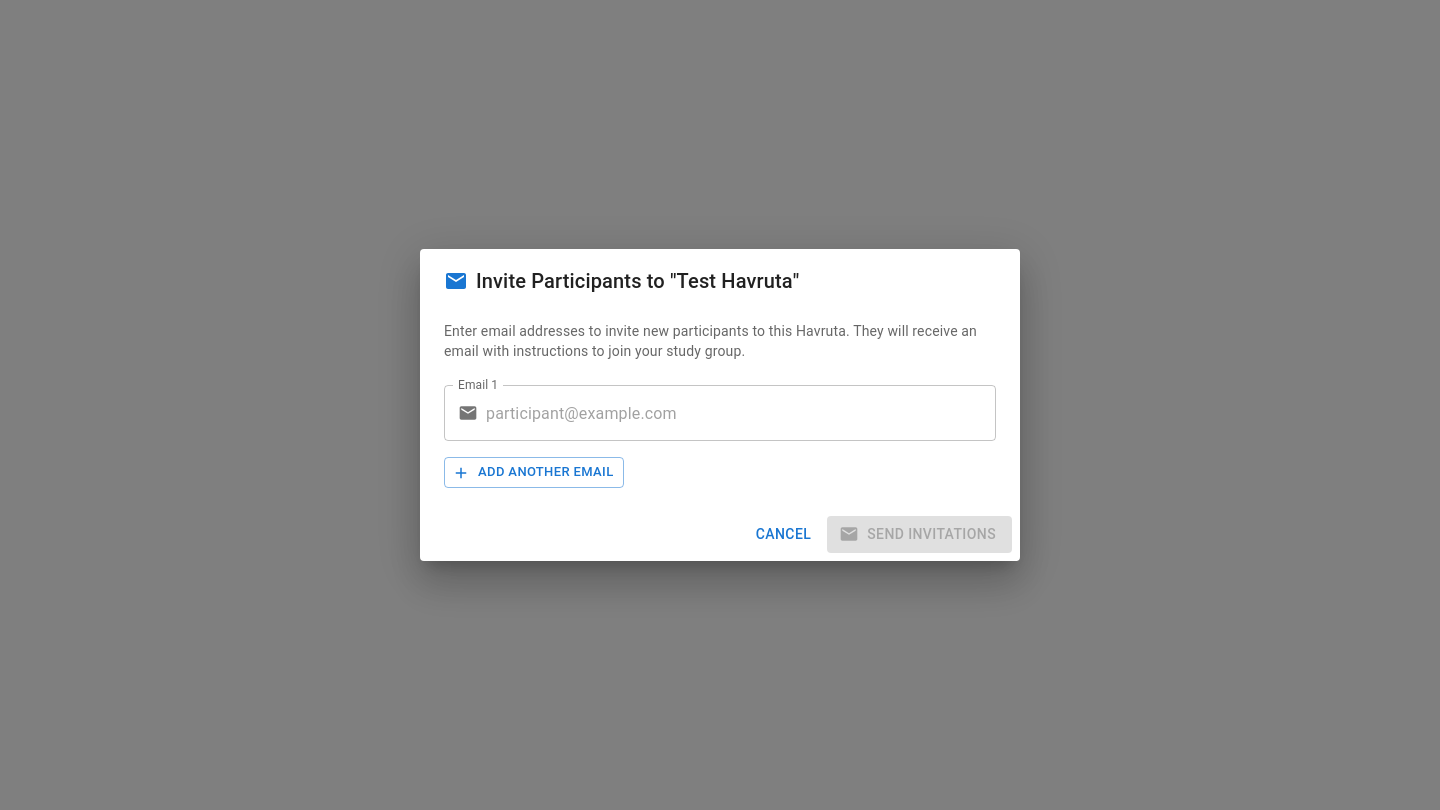
it: ParticipantInvitationDialog › removes email fields when delete button is clicked
# Add a second email field
Click the button "Add Another Email" at (534, 473), box [444,457,624,488]
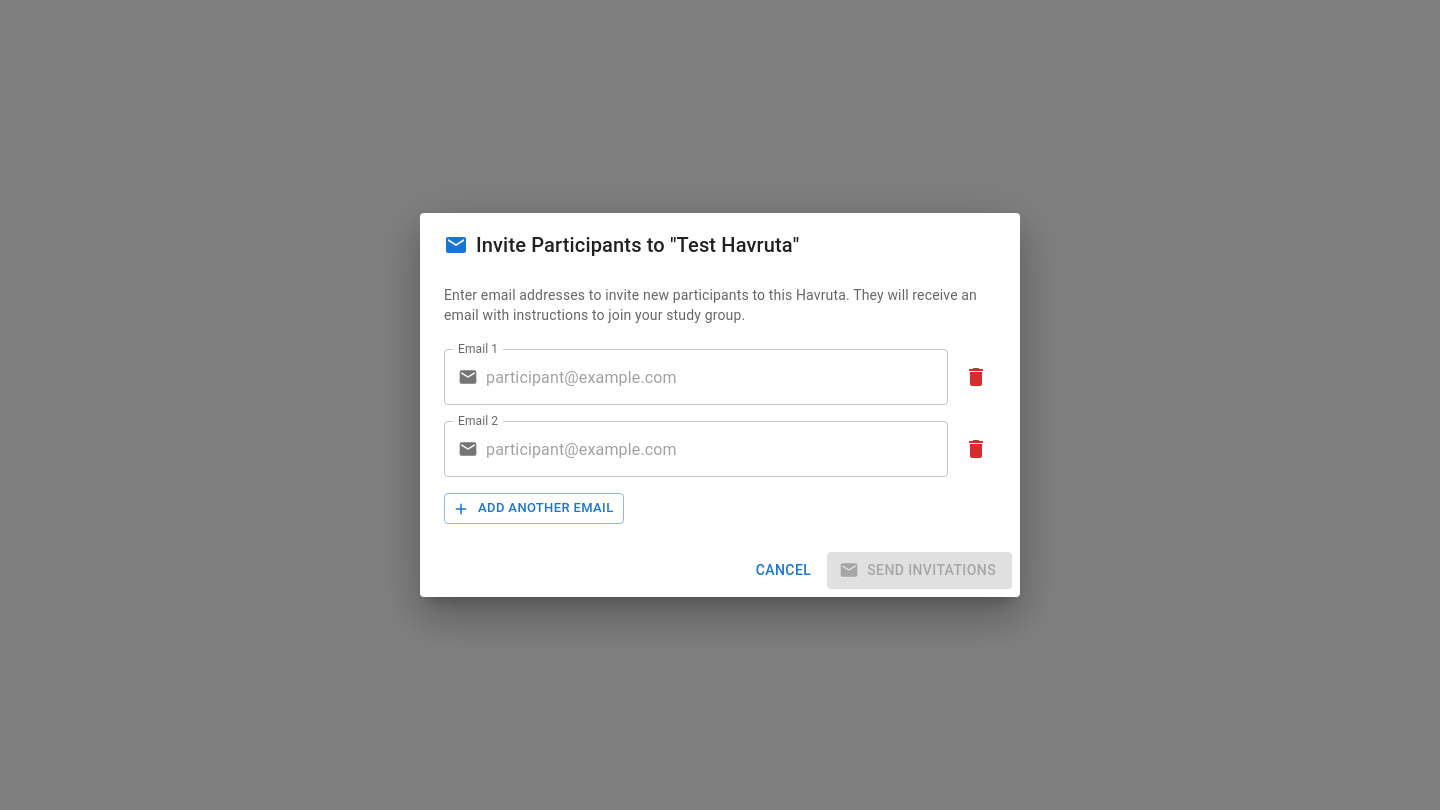
Expected: the field labelled "Email 1" is shown, [486,349,948,405]
Now the field labelled "Email 2" is shown, box [486,421,948,477]
Click the 1st button at (976, 377), box [956,357,996,397]
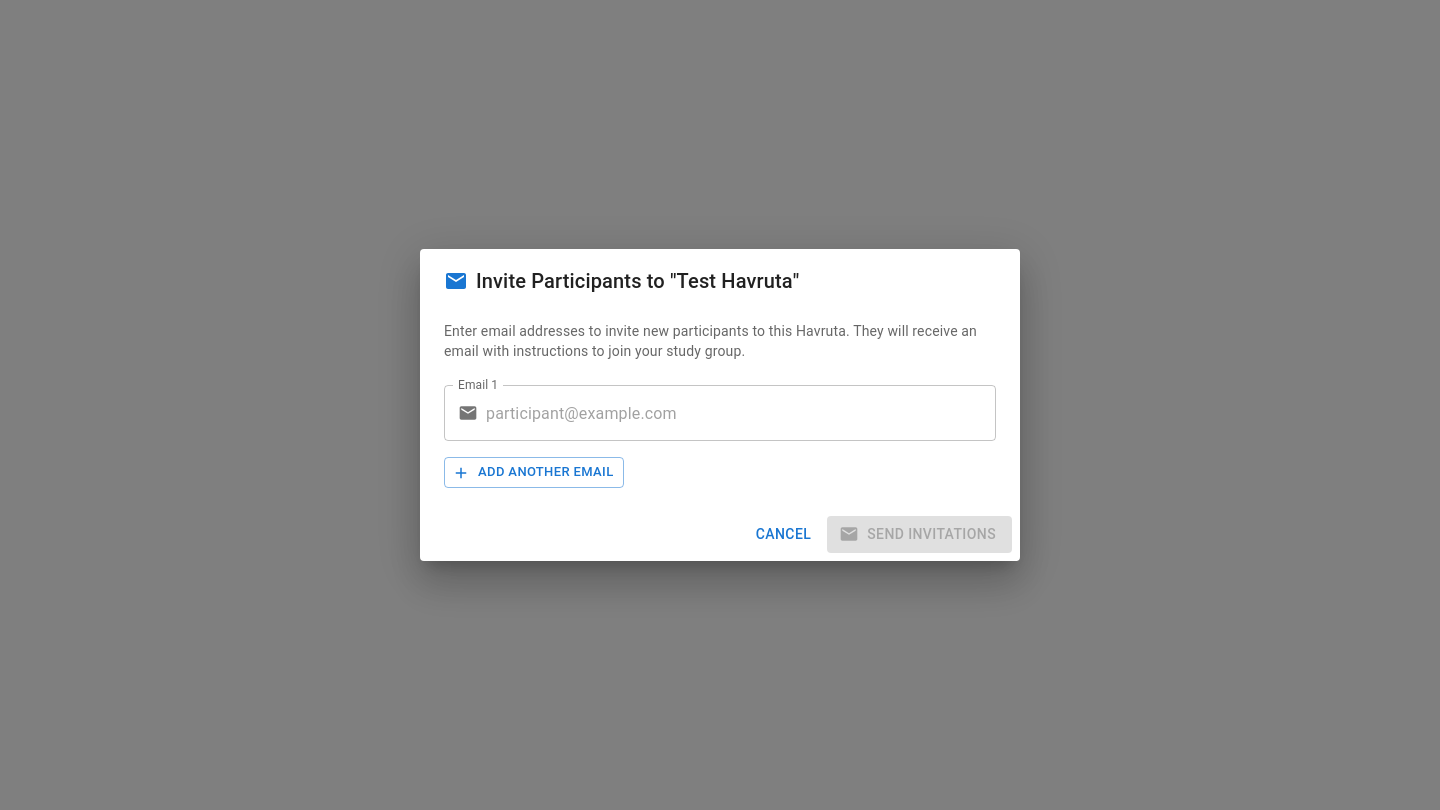
Expected: the field labelled "Email 1" is shown, [486,385,996,441]
Now the label labelled "Email 2" is gone
